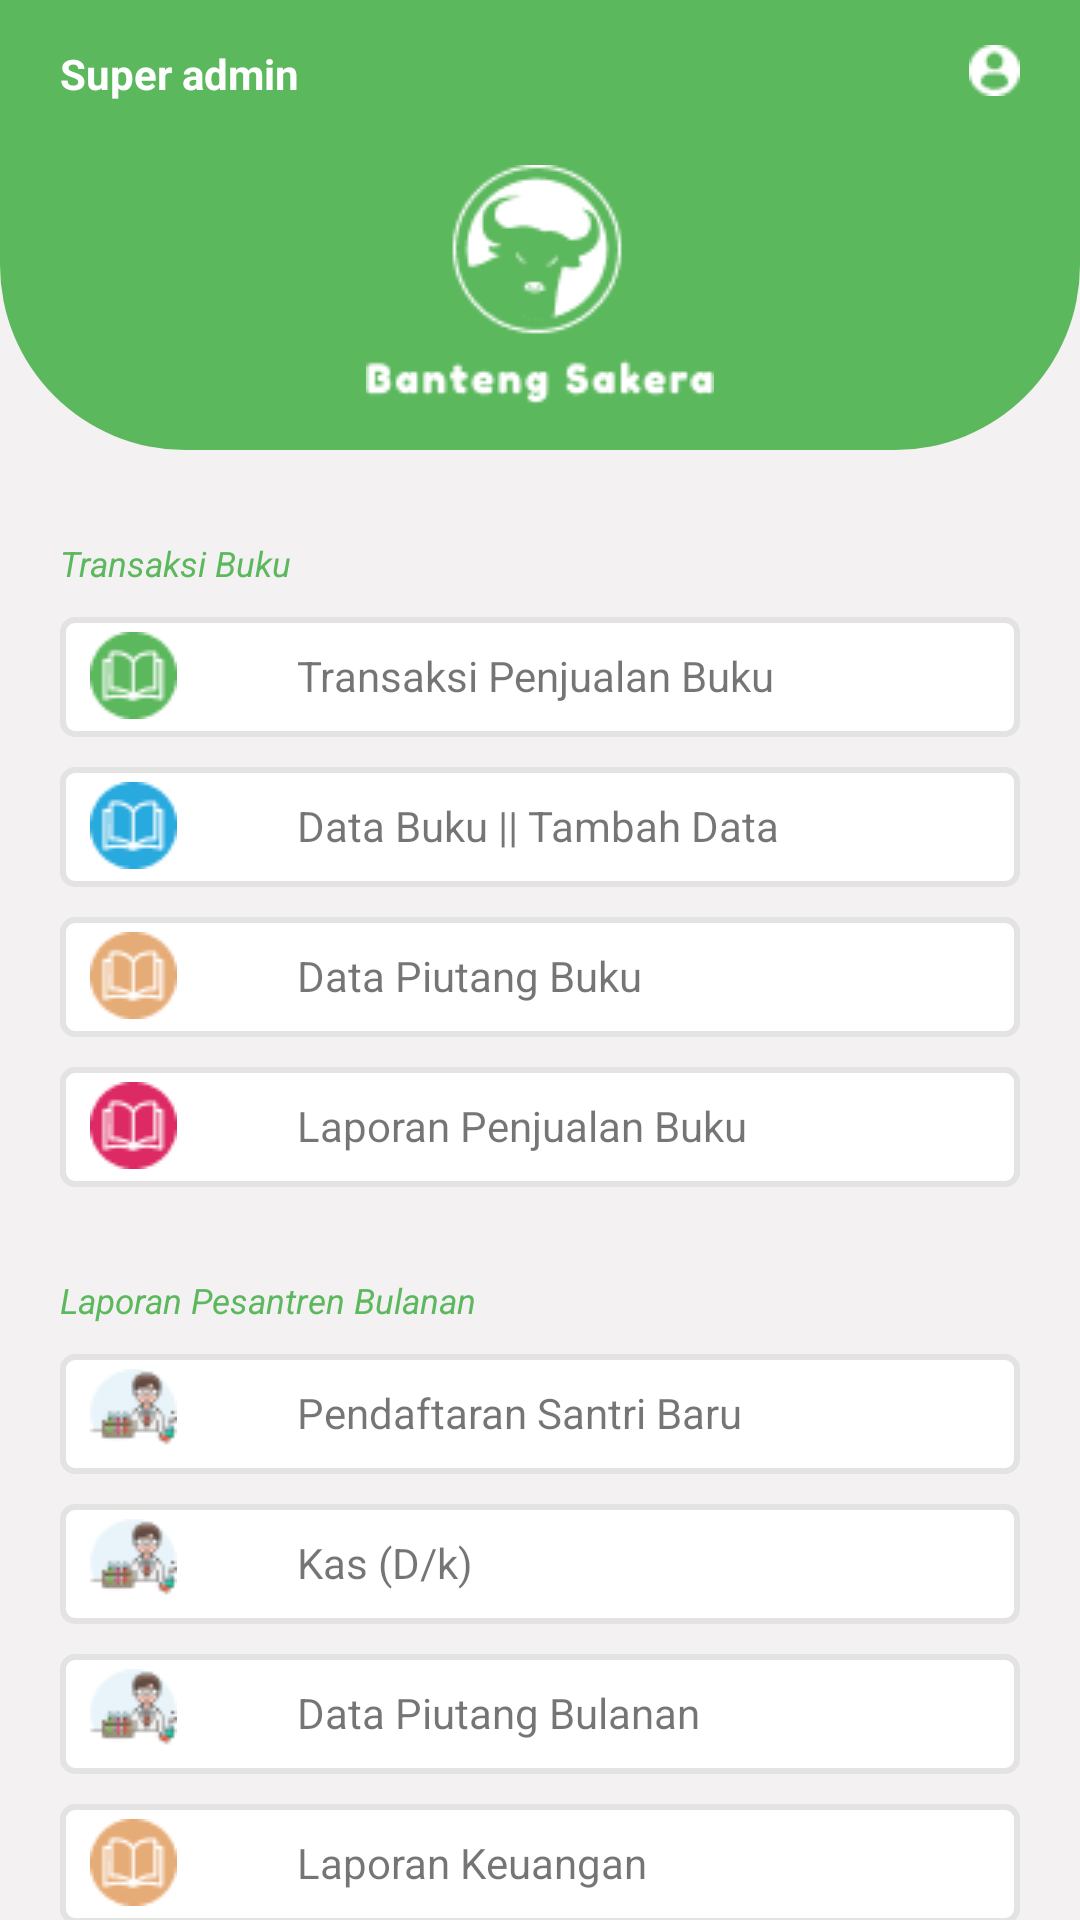

Icons on this 1080×1920 Android screen, each with its box as (x1, y1, x2, y2):
user: (969, 45, 1020, 96)
